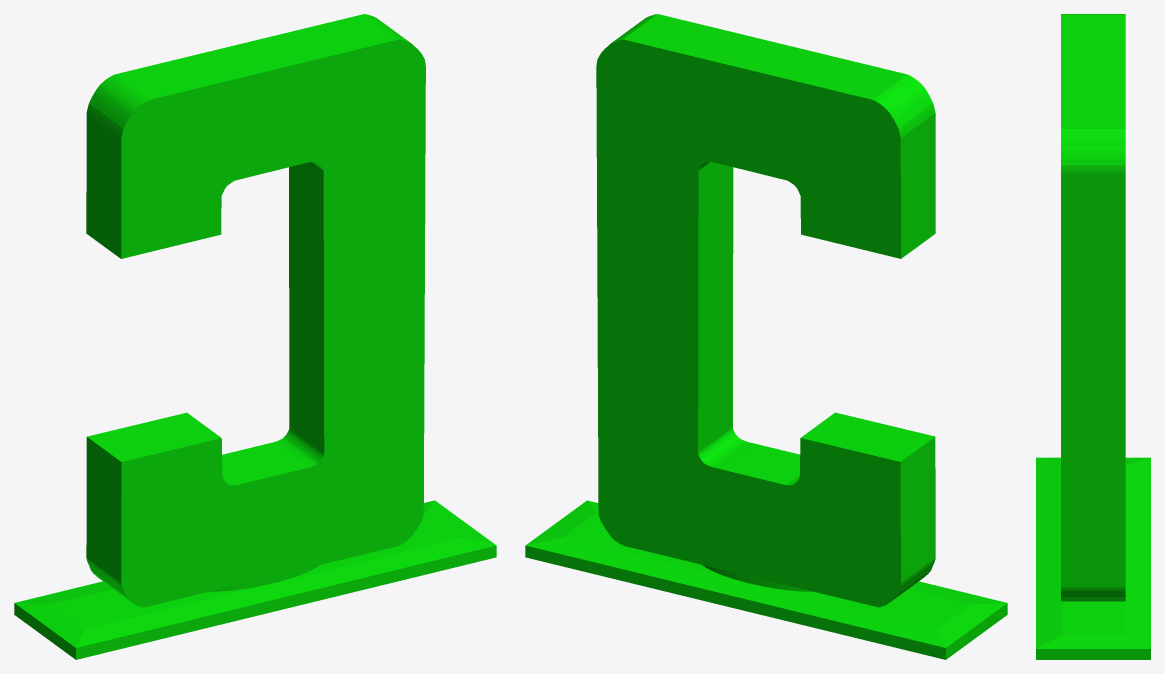
The model's file is green_player.glb.
3 views of the same model, side by side, from view 1: azimuth 30°, elevation 25°; view 2: azimuth 150°, elevation 25°; view 3: azimuth 270°, elevation 25° (orthographic). The views are drawn at different scales.
Visible parts, largest first — view 1: Plane; view 2: Plane; view 3: Plane.
Part boxes in pixels (left/top/right/bottom): Plane: left=14, top=14, right=496, bottom=659; Plane: left=525, top=14, right=1007, bottom=659; Plane: left=1036, top=14, right=1150, bottom=659.
Size of the model in its own units: 21.08 by 25.34 by 5.35.
